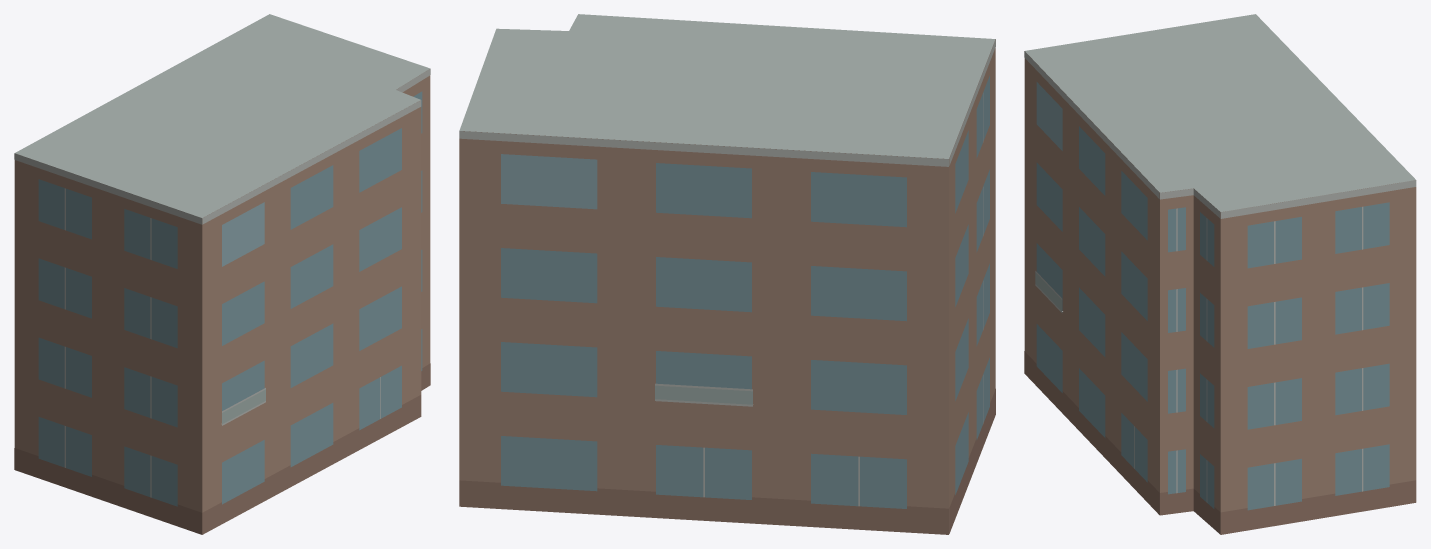
The model's file is survey-upis-32843008.glb.
3 renders of one model, left to right at view 1: azimuth 30°, elevation 25°; view 2: azimuth 150°, elevation 25°; view 3: azimuth 270°, elevation 25°, orthographic. The views are drawn at different scales.
Parts seen in each view (by area): view 1: survey-upis-32843008.tmp; view 2: survey-upis-32843008.tmp; view 3: survey-upis-32843008.tmp.
Boxes of the visible parts, <box> form: survey-upis-32843008.tmp: <box>14,14,430,534</box>; survey-upis-32843008.tmp: <box>459,14,995,534</box>; survey-upis-32843008.tmp: <box>1024,14,1416,534</box>.
Bounding box in the file's own units: 15.29 × 11.6 × 12.77.
